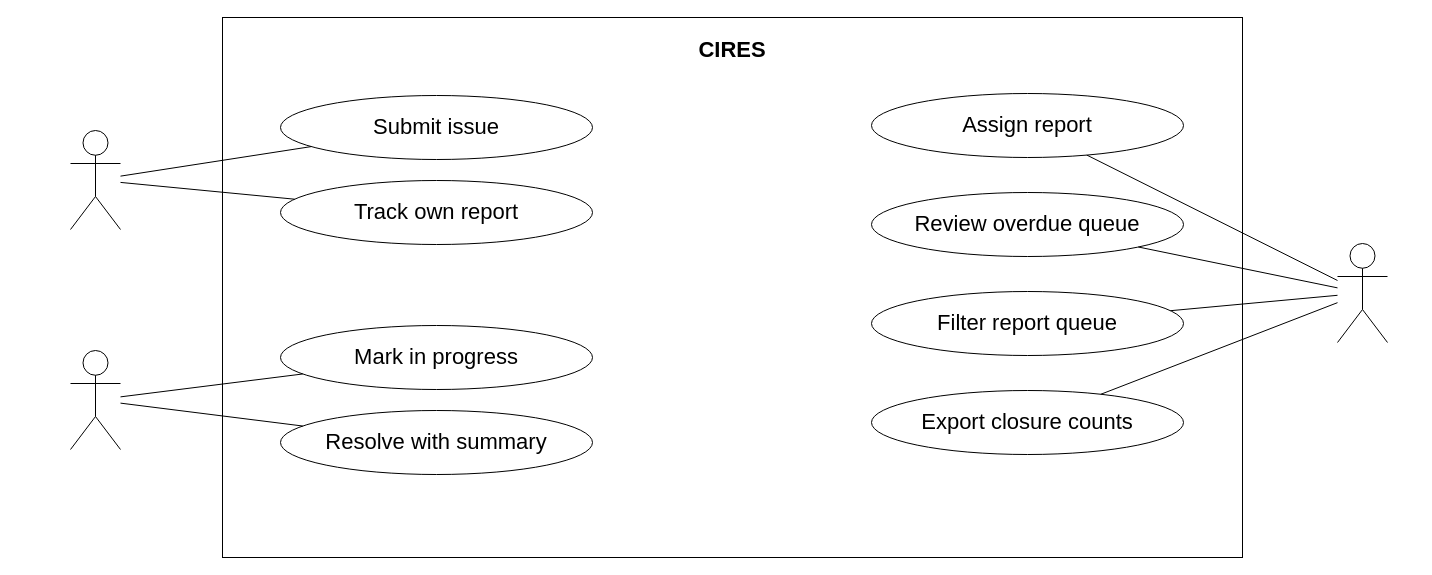
Some shapes in this 1432 by 575 pixel diagram are drawn without their labels. The shapes that lost their labels are listed below. From the top down, each one's box as (x1, y1, x2, y2) in pixels, then its label:
(70, 130, 120, 230): Resident
(1336, 242, 1388, 342): Supervisor
(70, 350, 120, 450): Assigned officer
